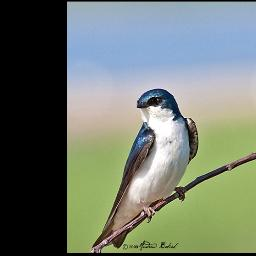Swallow: (91, 86, 200, 251)
